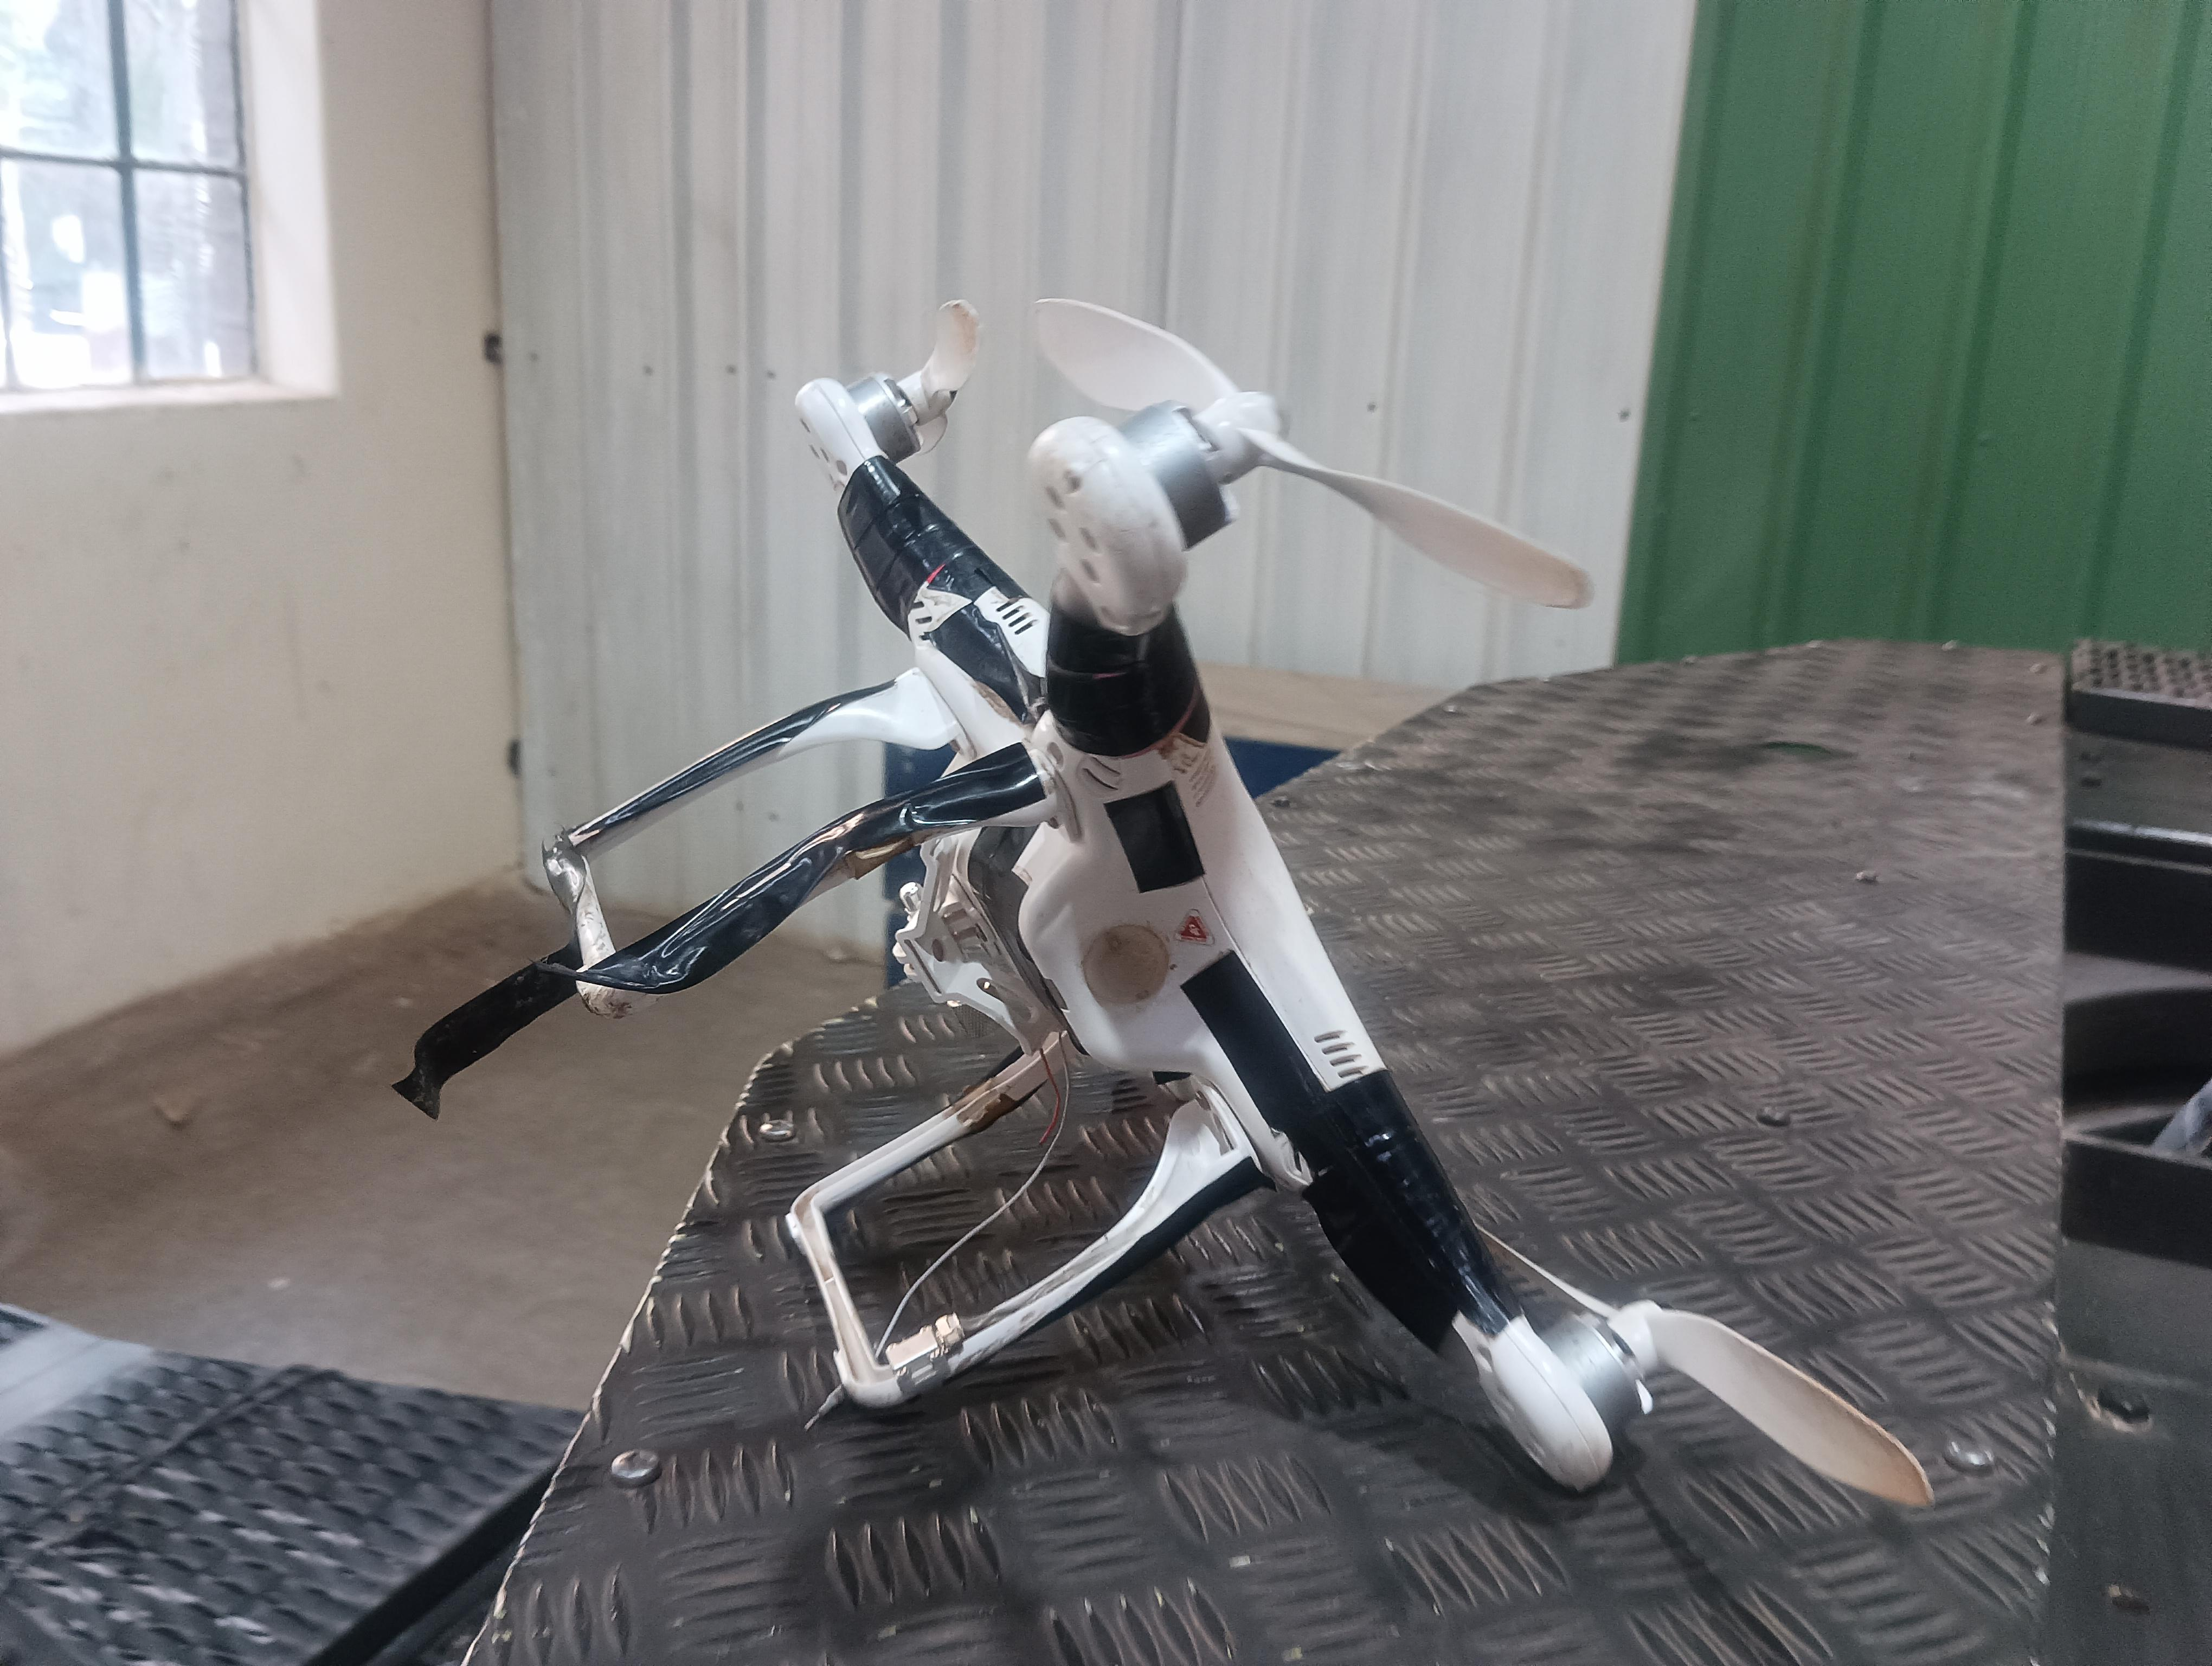drone: (537, 308, 1738, 1507)
